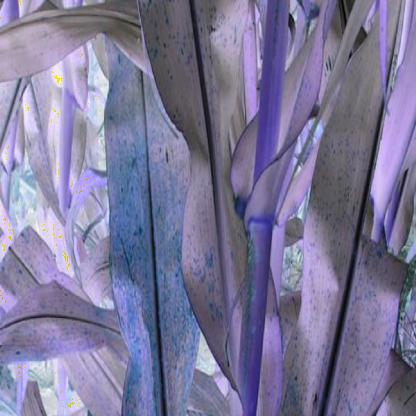corn rust leaf: (137, 1, 287, 415), (94, 22, 201, 415)
